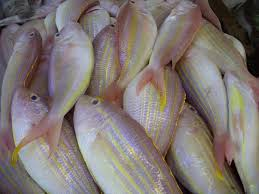Ikan Kerisi: (70, 95, 176, 194), (12, 84, 80, 194), (45, 17, 95, 134), (107, 1, 161, 98)
